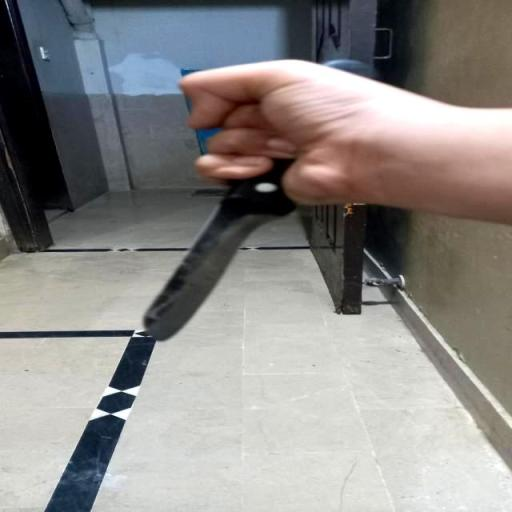knife: (138, 160, 298, 342)
